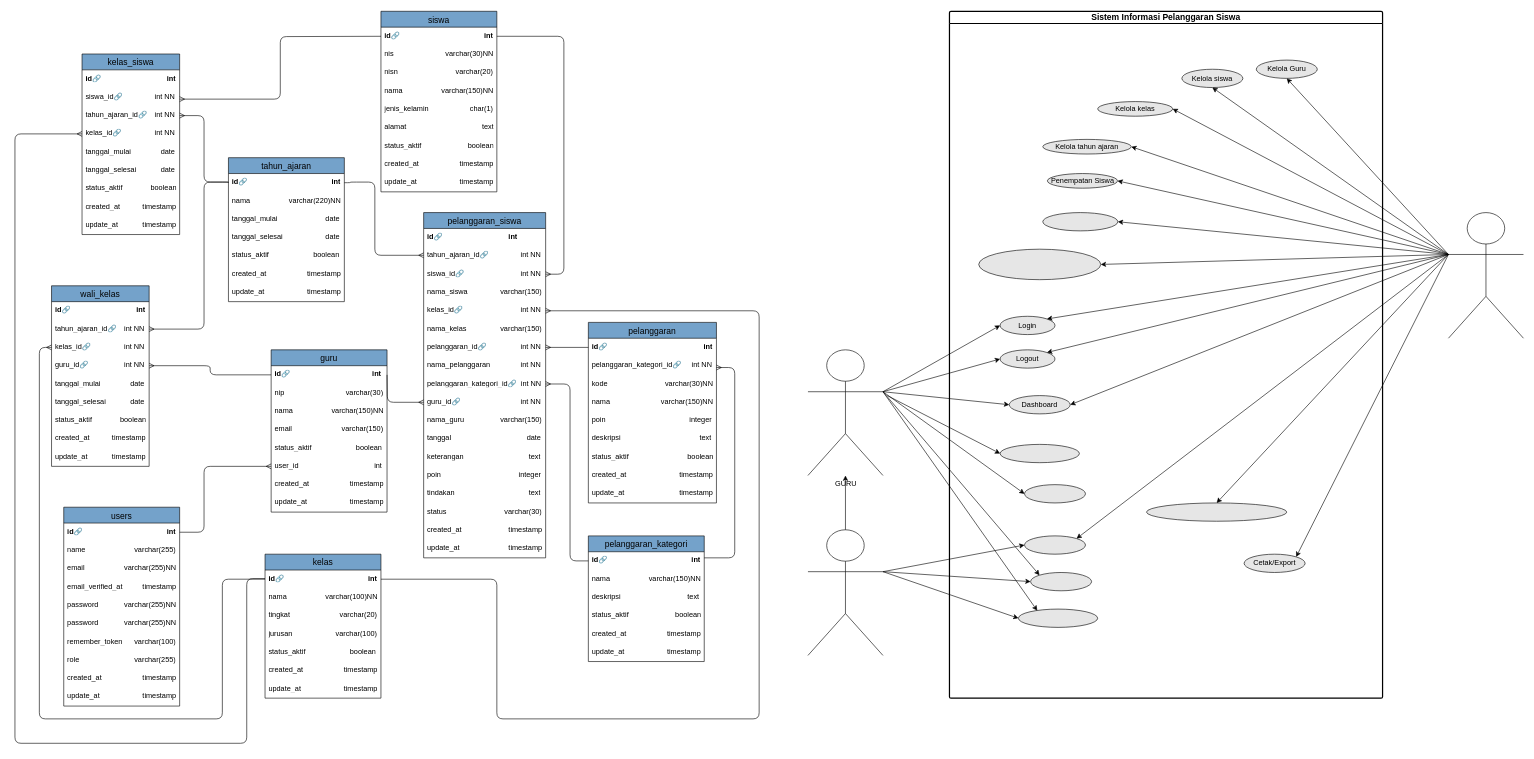
The diagram is 1534 pixels wide and 759 high, and some of its shapes have lost their labels. Here are the shapes that lost their labels. From the top down, the centre of each, then its label:
At point 1080,221: "Kelola Wali Kelas".
At point 1039,264: "Kelola kategori pelanggan".
At point 1485,275: "ADMIN".
At point 1039,453: "Catat Pelanggaran".
At point 1054,493: "Tindakan".
At point 1216,511: "Kelola Jenis Pelanggaran".
At point 1054,544: "Laporan".
At point 845,592: "WALI KELAS".
At point 1061,581: "Riwayat".
At point 1058,617: "Rekap Poin".
